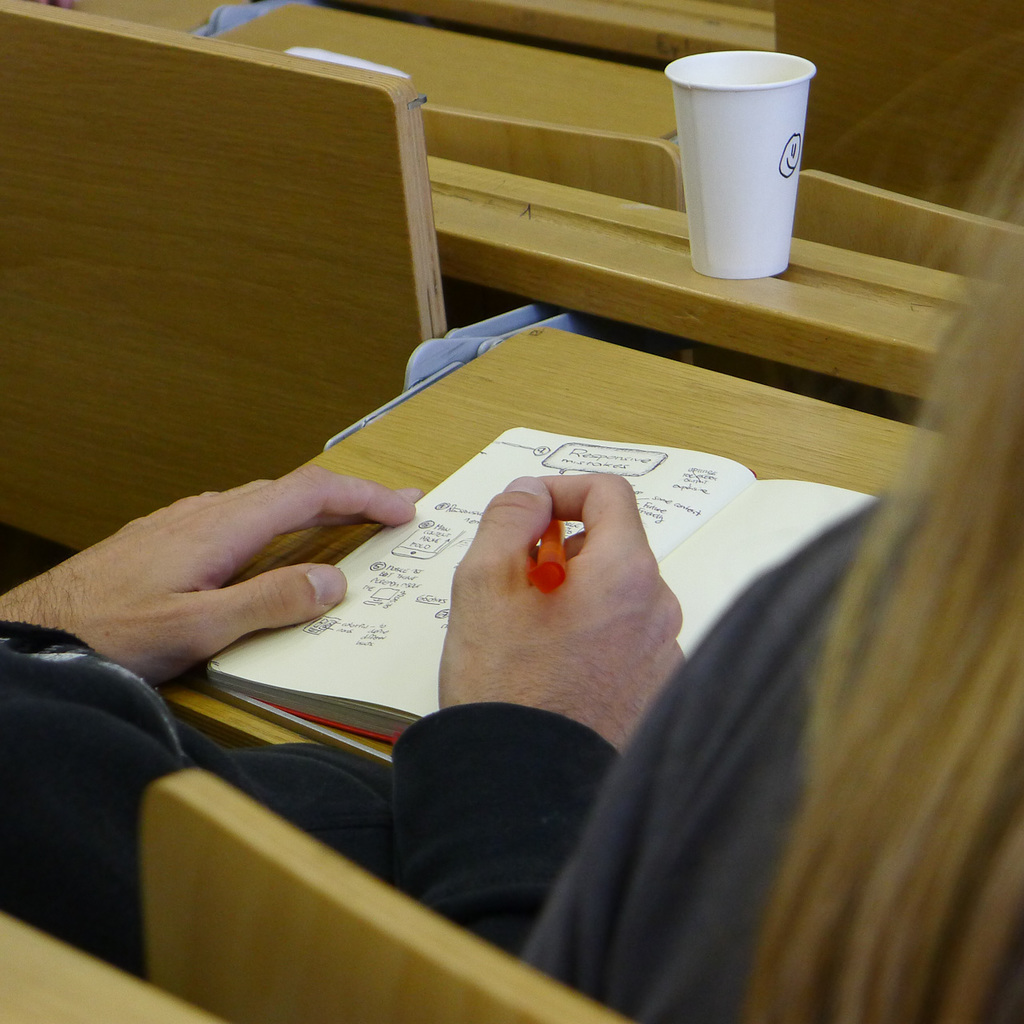Human_hand: (0, 464, 426, 687), (441, 474, 685, 759)
